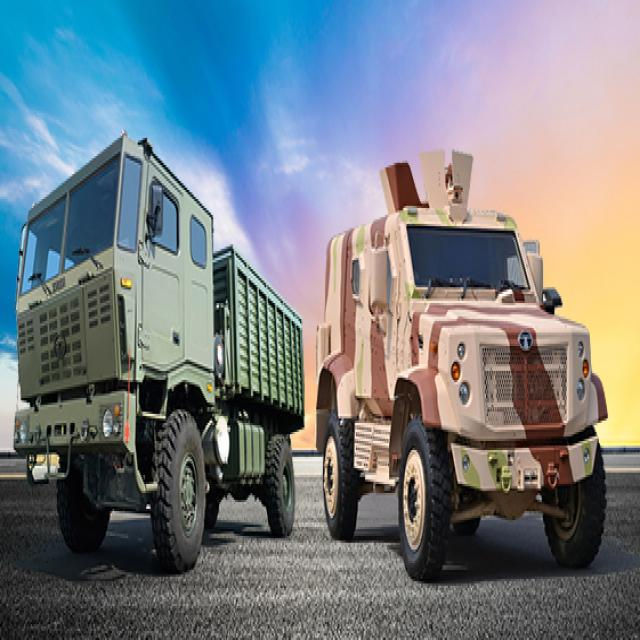truck: (15, 134, 304, 571), (316, 151, 608, 580)
